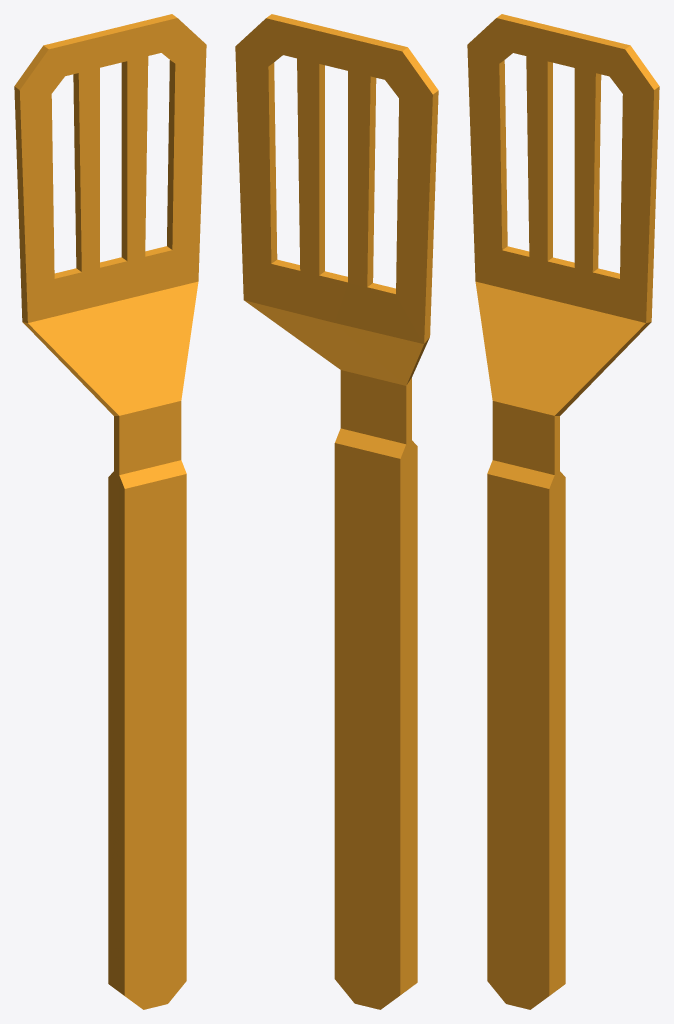
File: SM_Spatula_4july.fbx
3 views of the same model, side by side, from view 1: azimuth 30°, elevation 25°; view 2: azimuth 150°, elevation 25°; view 3: azimuth 330°, elevation 25° (orthographic). The views are drawn at different scales.
Parts seen in each view (by area): view 1: spatula-4july; view 2: spatula-4july; view 3: spatula-4july.
Boxes of the visible parts, x1,y1,x2,y2 form: spatula-4july: (14, 14, 206, 1009); spatula-4july: (235, 14, 438, 1009); spatula-4july: (467, 14, 659, 1009).
Size of the model in its own units: 0.0992 by 0.4782 by 0.0443.
